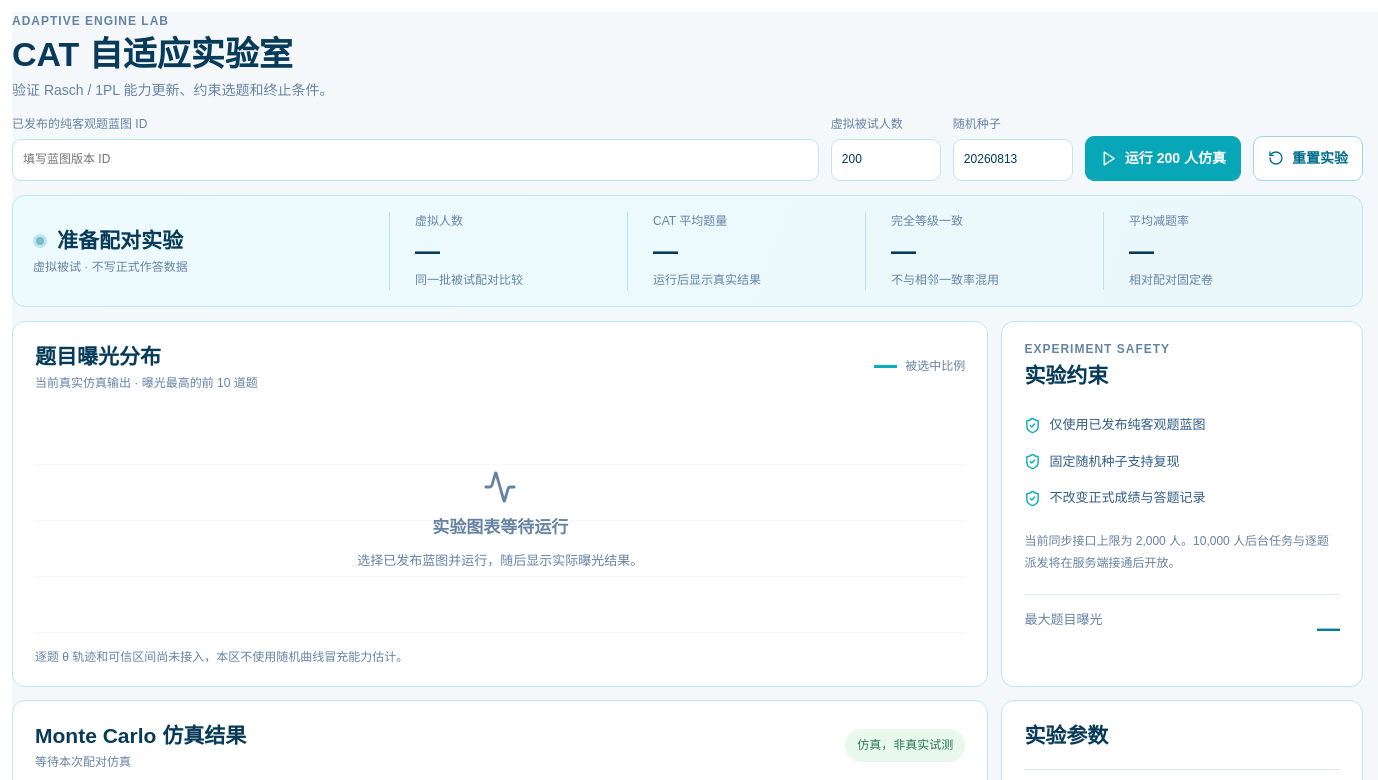
Scenario: CatLabView › rejects unsupported batch sizes without sending a request
Type "f9076789-4c7c-4f25-876e-a7c2c151ae10" into the field labelled "已发布的纯客观题蓝图 ID" at [415, 160], box [12,139,819,181]
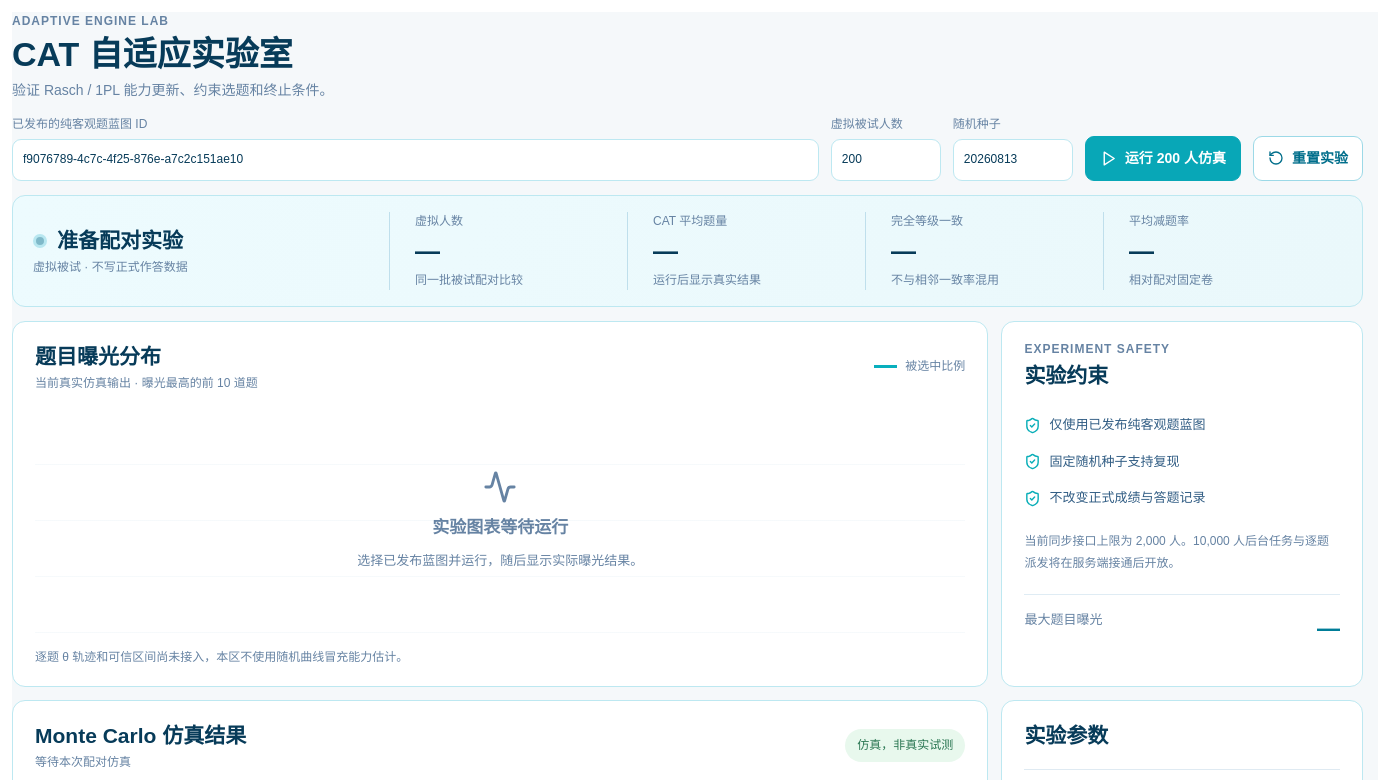
Replace the text in the number field labelled "虚拟被试人数" with "10000" at [886, 160], box [831,139,941,181]
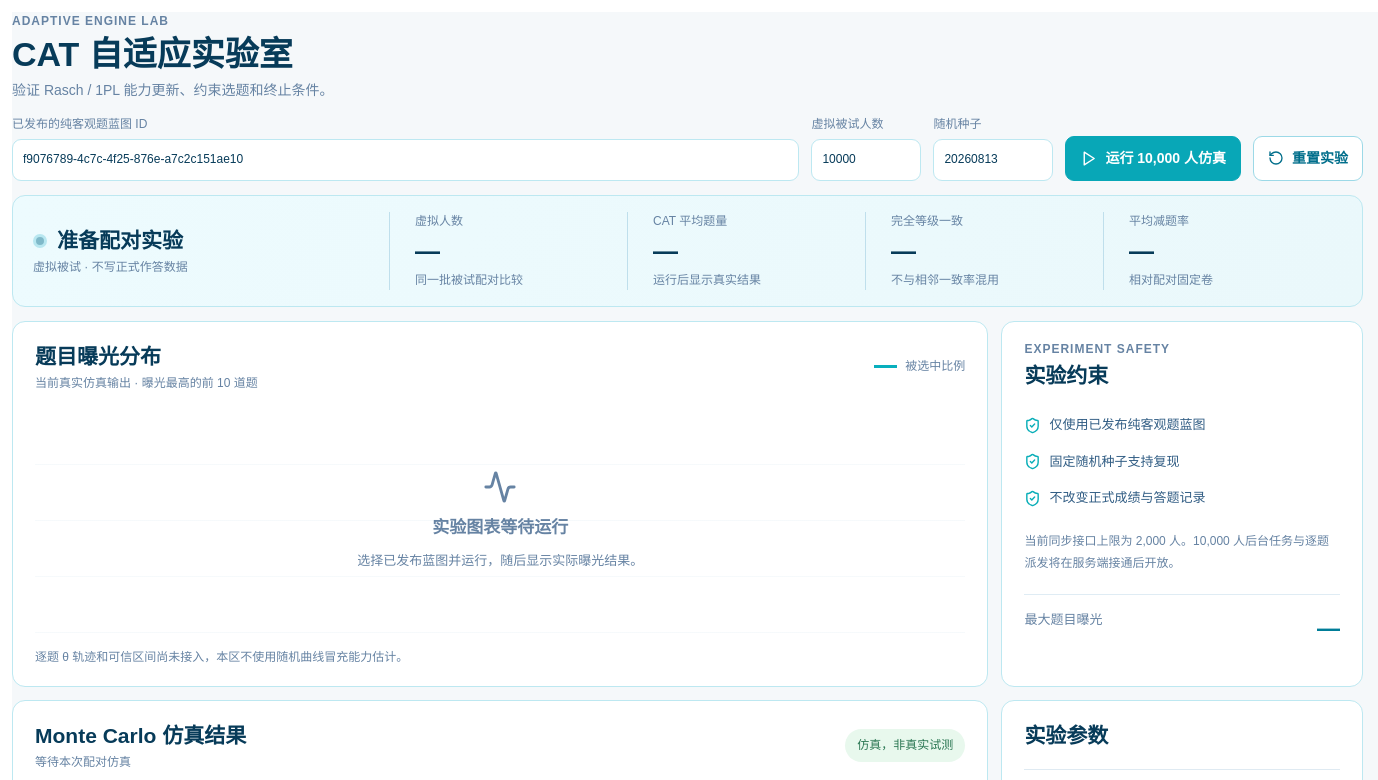
Submit the form, box [12,115,1363,181]
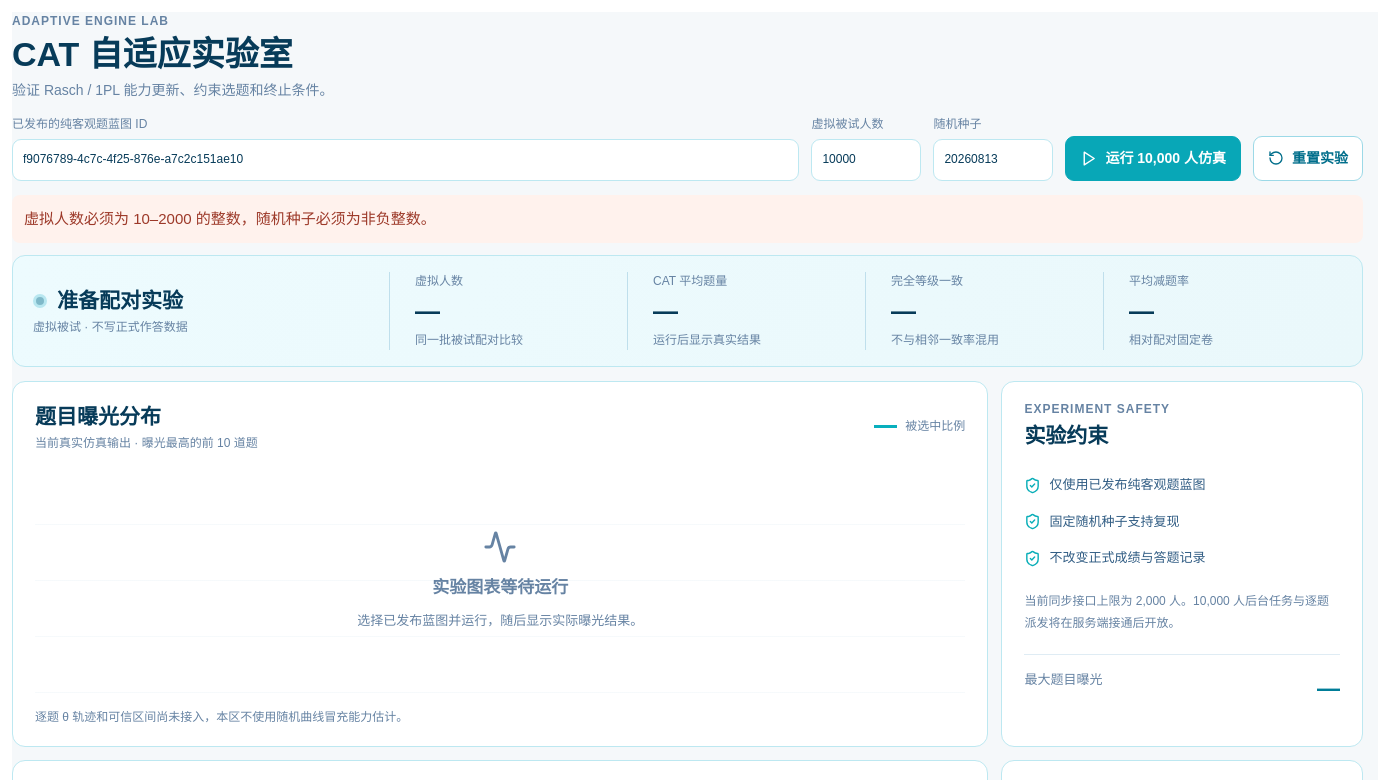
Now the message "虚拟人数必须为 10–2000 的整数，随机种子必须为非负整数。" is shown, box [12,194,1363,242]
